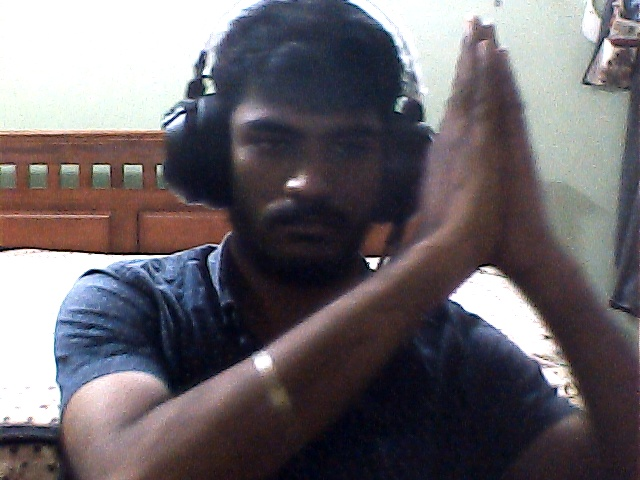Sign: (418, 8, 554, 271)
